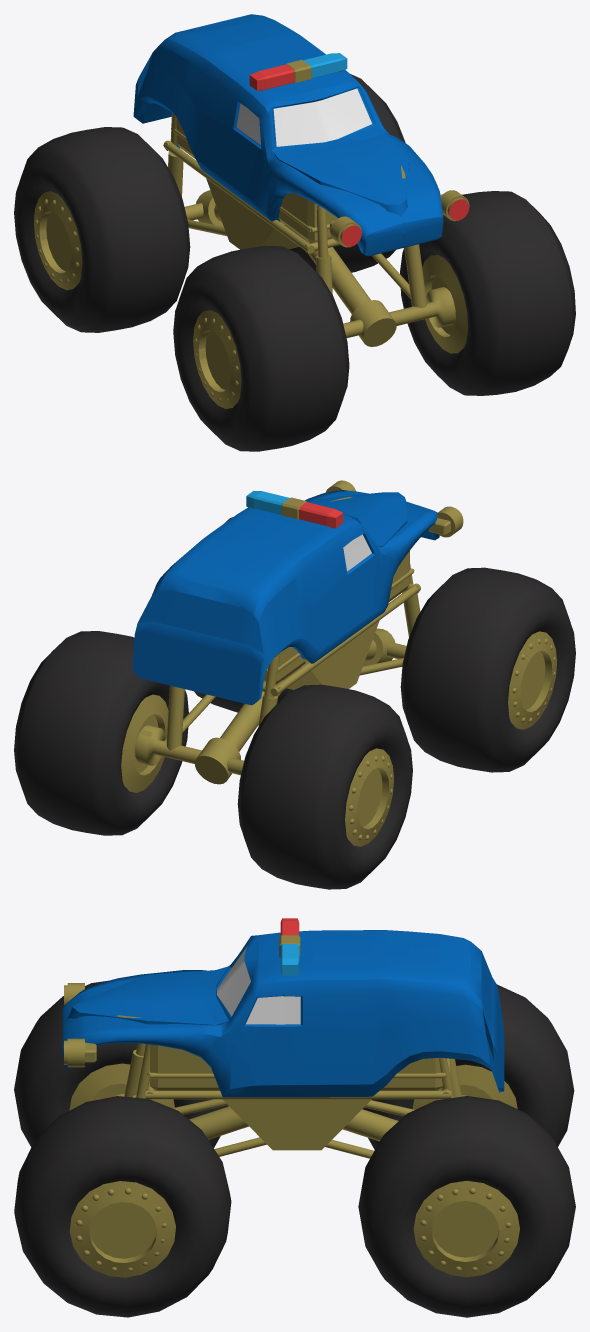
The model's file is StaticTruck.fbx.
3 renders of one model, top to bottom at view 1: azimuth 30°, elevation 25°; view 2: azimuth 150°, elevation 25°; view 3: azimuth 270°, elevation 25°, orthographic. The views are drawn at different scales.
Visible parts, largest first — view 1: Car1; view 2: Car1; view 3: Car1.
Part boxes in pixels (box(x1,y1,x2,y2)): Car1: box(14, 14, 575, 451); Car1: box(14, 480, 575, 889); Car1: box(14, 918, 575, 1317).
Bounding box in the file's own units: 626 × 530 × 874.
